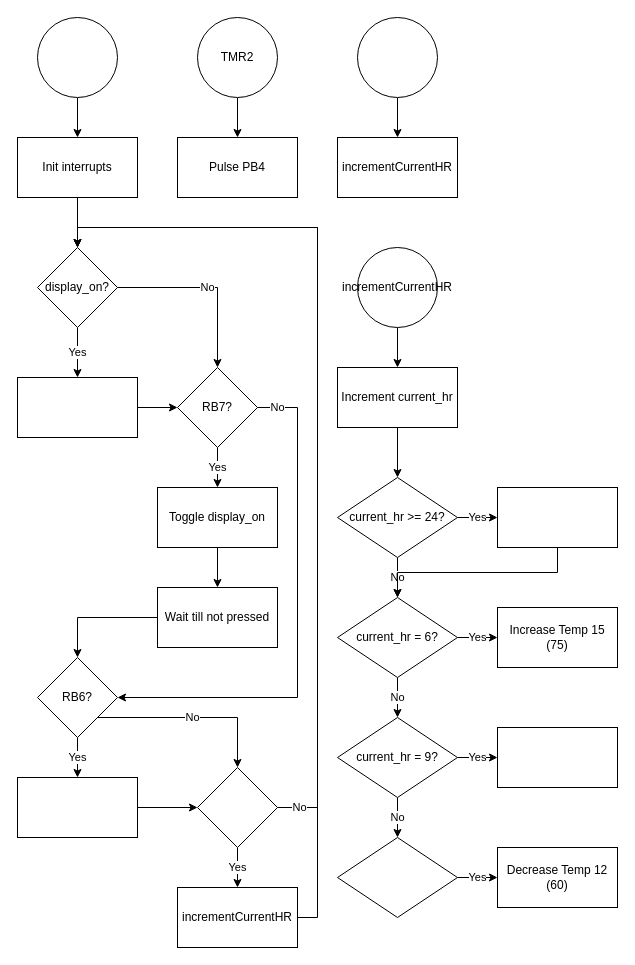
The diagram is 635 pixels wide and 965 high, and some of its shapes have lost their labels. Here are the shapes that lost their labels. From the top down, the box of each, then its label:
(36, 16, 118, 98): Start
(356, 16, 438, 98): TMR0
(16, 376, 138, 438): Display Current Time
(496, 486, 618, 548): Set current_hr = 0
(496, 726, 618, 788): Decrease Temp 3 (72)
(16, 776, 138, 838): Reset hours and interrupts to 0
(196, 766, 278, 848): RB5?
(336, 836, 458, 918): current_hr = 22?
